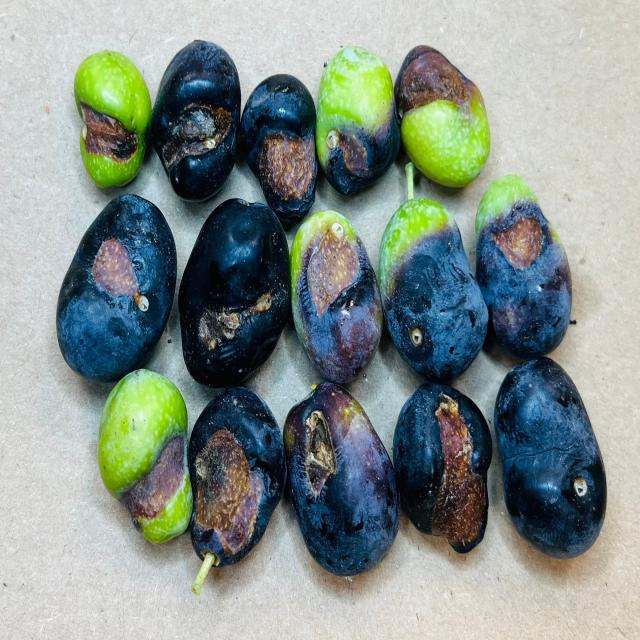Olive Fruit Fly: (283, 382, 400, 577), (493, 357, 606, 558), (57, 194, 177, 382), (178, 199, 289, 388), (379, 199, 488, 383), (476, 175, 572, 357), (188, 387, 285, 567), (393, 383, 492, 553), (98, 369, 192, 543), (291, 211, 383, 383), (149, 40, 241, 201), (394, 46, 490, 188), (238, 74, 318, 229), (317, 46, 400, 195), (74, 51, 151, 187)
